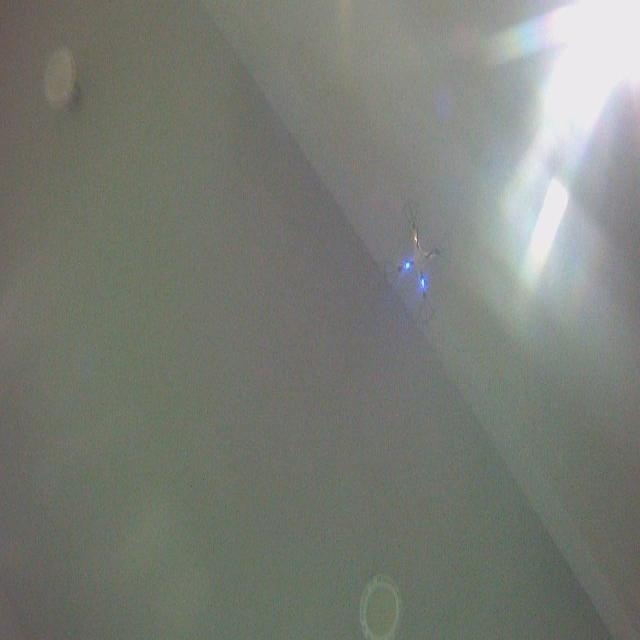drone: (381, 197, 452, 326)
